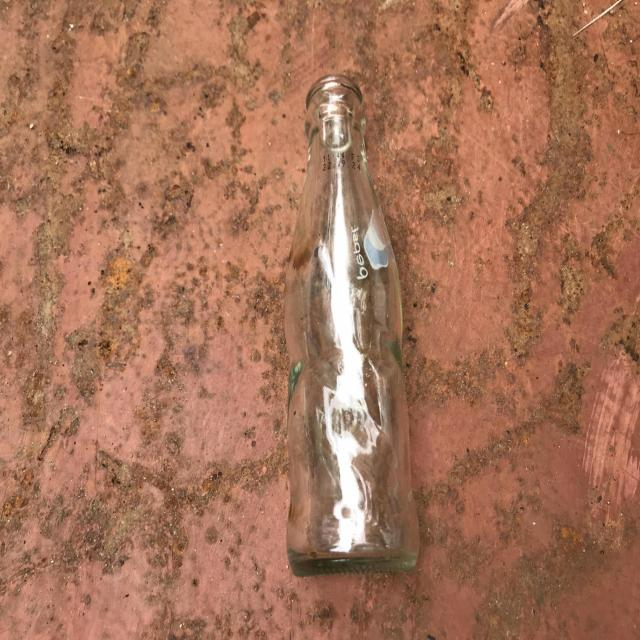glass: (285, 74, 419, 577)
